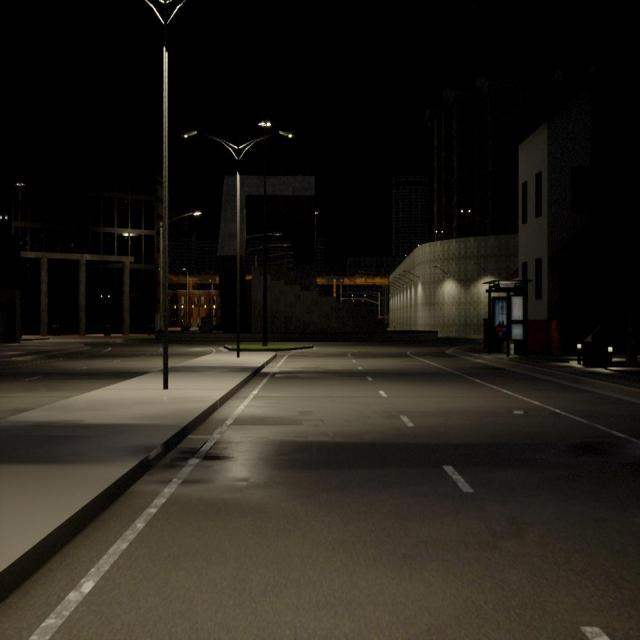traffic_light: (352, 300, 354, 302), (362, 300, 364, 302), (364, 295, 366, 297), (352, 294, 353, 297)
